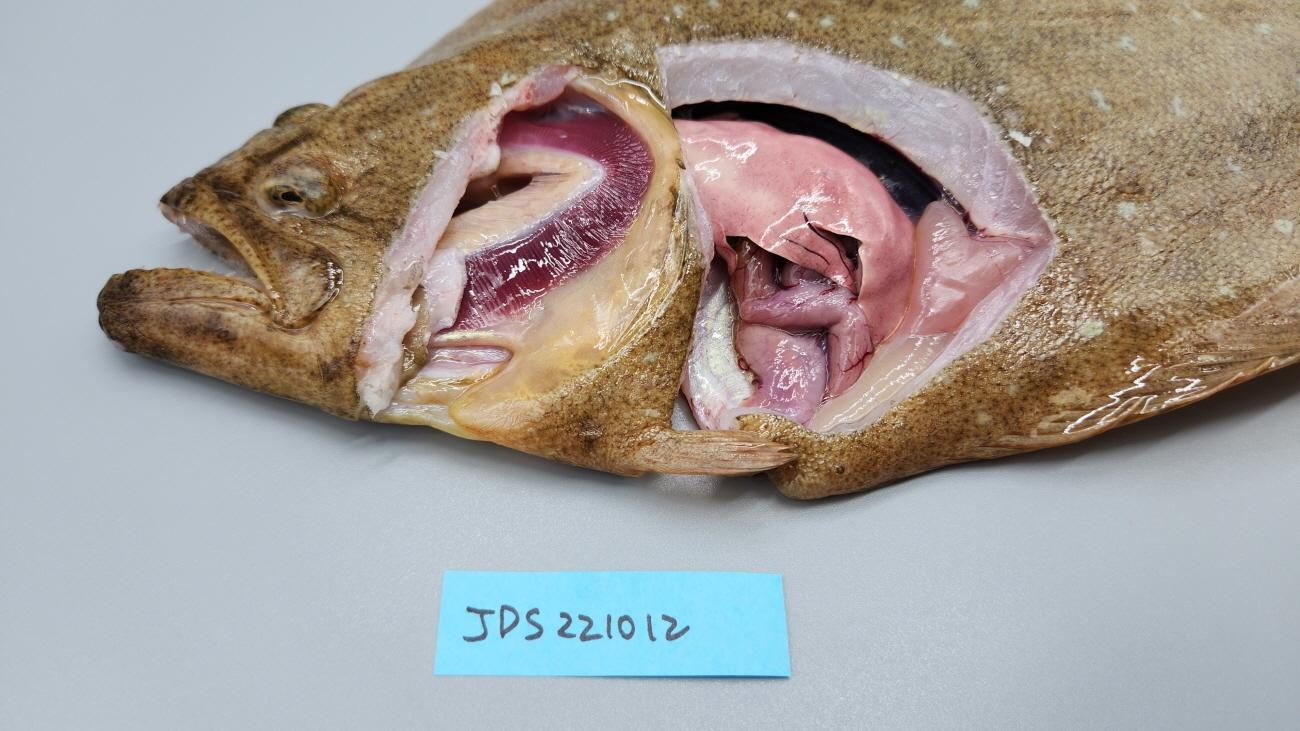POGIN: (454, 109, 652, 334)
POLIN: (672, 117, 921, 337)
